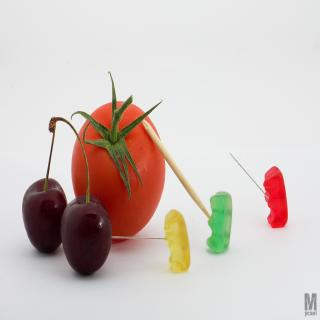tomato: (66, 97, 172, 234)
